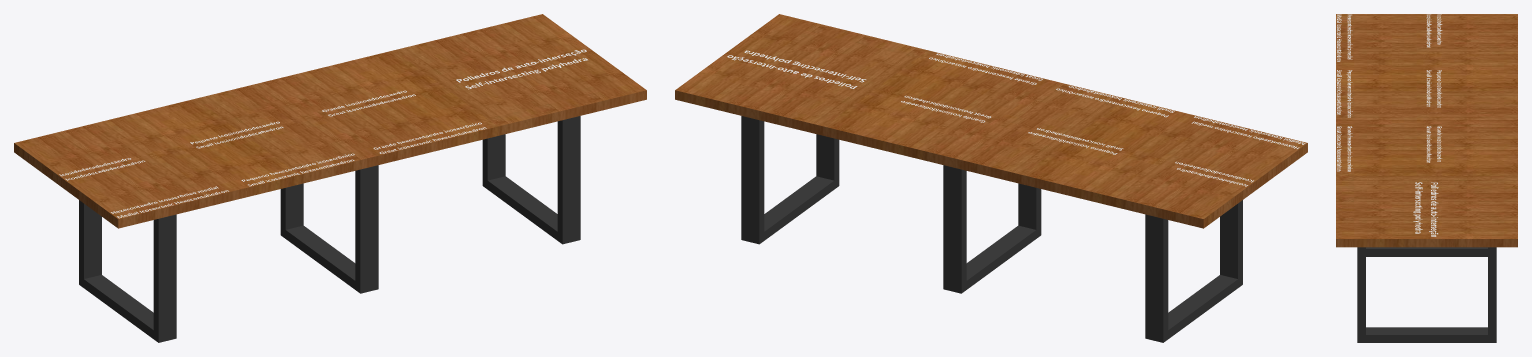
Rendered from mesa_selfIntersect5.glb.
3 renders of one model, left to right at view 1: azimuth 30°, elevation 25°; view 2: azimuth 150°, elevation 25°; view 3: azimuth 270°, elevation 25°, orthographic. The views are drawn at different scales.
Parts seen in each view (by area): view 1: object 1, Composant#1 (×3), Poliedros de aut#2, Hexecontaedro ic; view 2: object 1, Composant#1 (×3), Poliedros de aut#2, Hexecontaedro ic; view 3: object 1, Composant#1 (×2), Poliedros de aut#2, Hexecontaedro ic, Grande hexeconta, Pequeno hexecont#1, Pequeno icosicos, Grande icosicosi, Icosidodecadodec.
Boxes of the visible parts, x1,y1,x2,y2 form: object 1: (14, 14, 646, 228); Composant#1 (×3): (79, 116, 580, 342); Poliedros de aut#2: (456, 49, 587, 89); Hexecontaedro ic: (111, 186, 228, 218); object 1: (675, 14, 1307, 228); Composant#1 (×3): (741, 116, 1242, 342); Poliedros de aut#2: (727, 50, 866, 88); Hexecontaedro ic: (1191, 116, 1305, 148); object 1: (1336, 14, 1517, 247); Composant#1 (×2): (1357, 247, 1496, 342); Poliedros de aut#2: (1413, 182, 1438, 236); Hexecontaedro ic: (1337, 14, 1352, 61); Grande hexeconta: (1337, 126, 1352, 171); Pequeno hexecont#1: (1337, 70, 1352, 117); Pequeno icosicos: (1426, 70, 1441, 107); Grande icosicosi: (1426, 126, 1441, 162); Icosidodecadodec: (1426, 14, 1442, 47).
Bounding box in the file's own units: 2.93 × 0.7711 × 1.
3 materials, 1 textured.
